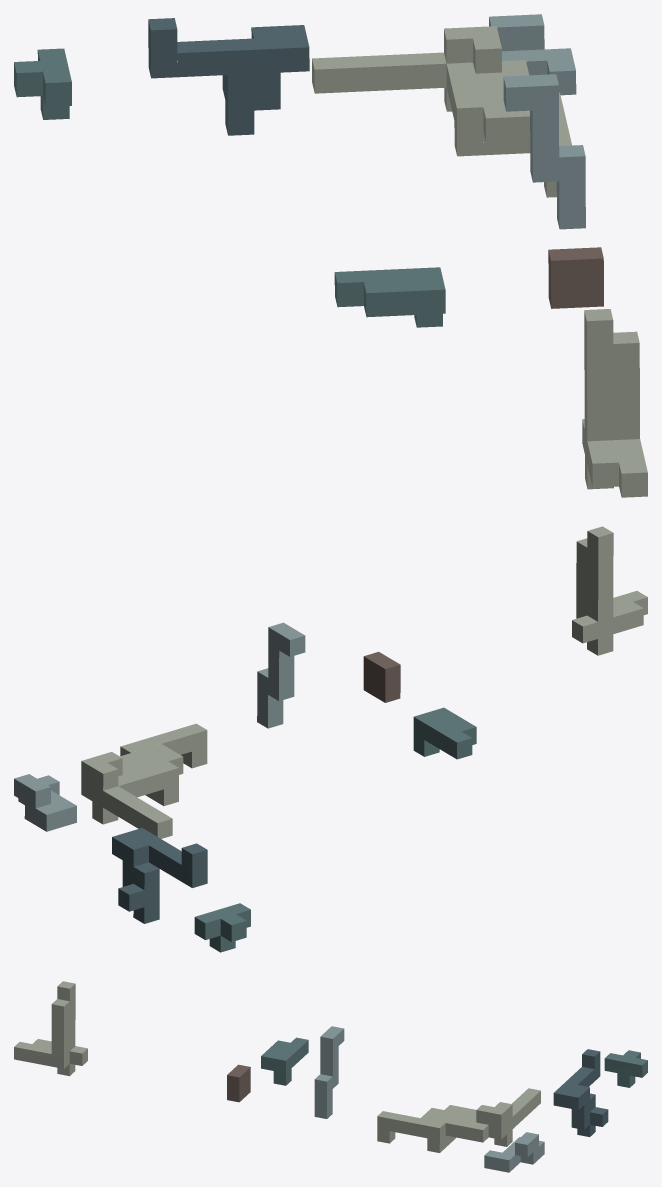
The picture shows the model from 3 angles, top to bottom: view 1: azimuth 30°, elevation 25°; view 2: azimuth 150°, elevation 25°; view 3: azimuth 270°, elevation 25°; orthographic projection. The views are drawn at different scales.
Parts seen in each view (by area): view 1: measured-industrial; view 2: measured-industrial; view 3: measured-industrial.
Boxes of the visible parts, x1,y1,x2,y2 form: measured-industrial: [14, 14, 647, 497]; measured-industrial: [14, 526, 647, 952]; measured-industrial: [14, 981, 647, 1172].
Bounding box in the file's own units: 28.69 × 13.55 × 69.15.
